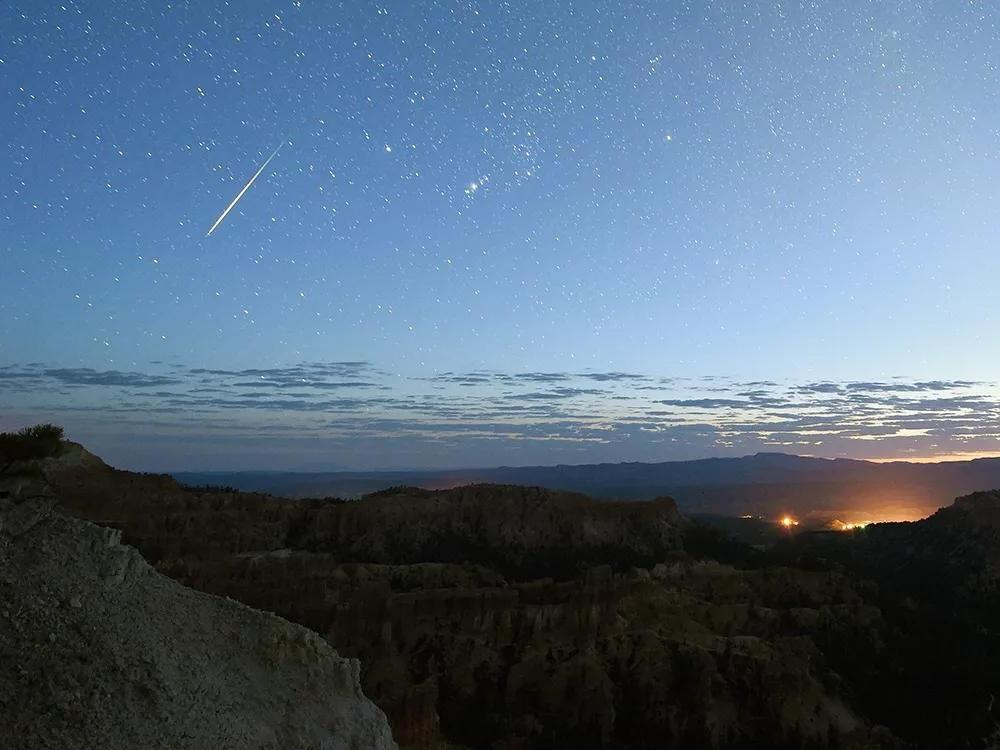meteorite: (182, 156, 286, 248)
